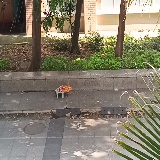fire: (60, 85, 72, 93)
